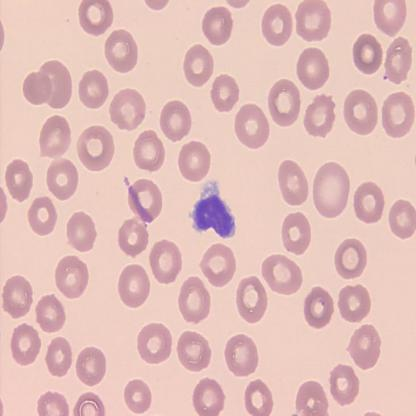Lymphocyte: (188, 179, 236, 240)
